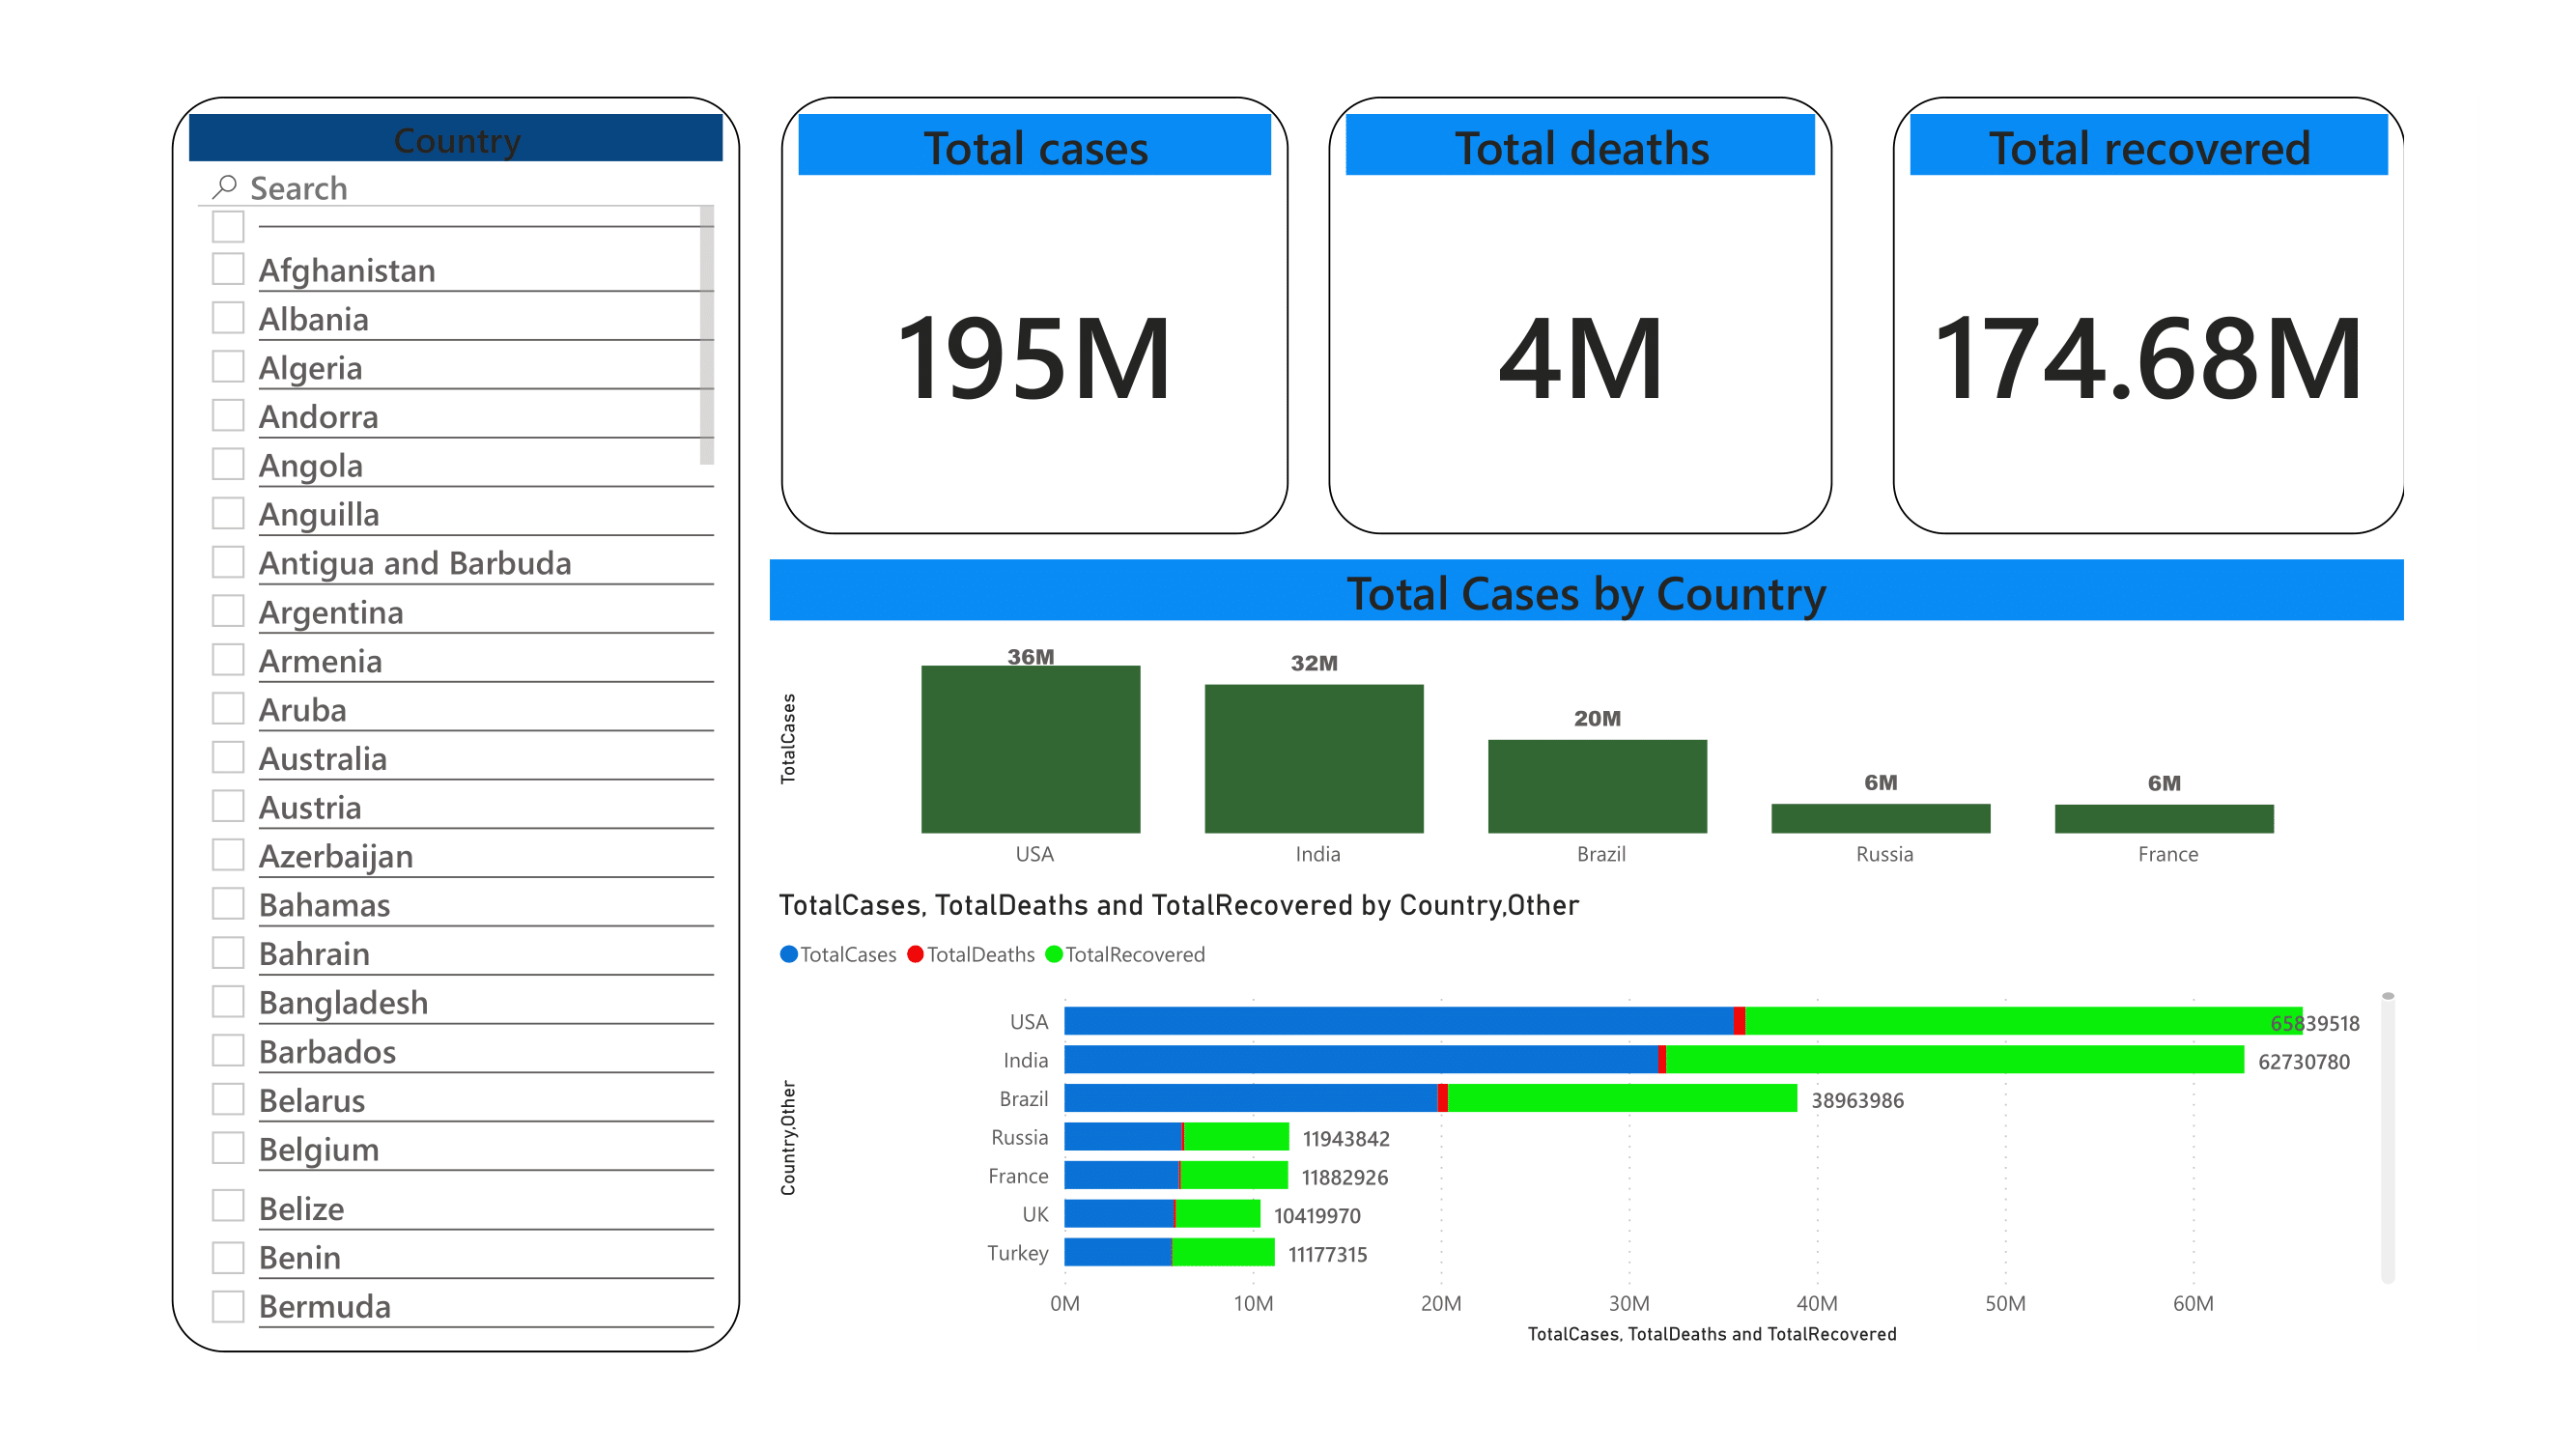

This screenshot's page, from the dashboard's own definition file:
{"tool":"powerbi","page":{"name":"Page 1","canvas":[1280,720],"ordinal":0},"visuals":[{"type":"slicer","title":"Country","fields":{"Values":["Table 1.Country,Other"]},"box":[0,0,325.7,719.5],"z":0},{"type":"card","title":"Total cases","fields":{"Values":["Sum(Table 1.TotalCases)"]},"box":[349.6,0,290.6,250.6],"z":1000},{"type":"card","title":"Total deaths","fields":{"Values":["Sum(Table 1.TotalDeaths)"]},"box":[664.1,0,289,250.6],"z":2000},{"type":"card","title":"Total recovered","fields":{"Values":["Sum(Table 1.TotalRecovered)"]},"box":[986.6,0,293.7,250.6],"z":3000},{"type":"columnChart","title":"Total Cases by Country","fields":{"Category":["Table 1.Country,Other"],"Y":["Sum(Table 1.TotalCases)"]},"box":[343.2,265,937.1,188.4],"z":4000},{"type":"barChart","fields":{"Y":["Sum(Table 1.TotalCases)","Sum(Table 1.TotalDeaths)","Sum(Table 1.TotalRecovered)"],"Category":["Table 1.Country,Other"]},"box":[343.2,453.4,937.1,266.6],"z":5000}]}

Visuals, with their boxes in screenshot pixels (x1, y1, x2, y2), scaled from the page's 1280x720 canvas onto the 2576x1449 screenshot:
"Country" slicer: 0,0,656,1448
"Total cases" card: 703,0,1288,504
"Total deaths" card: 1337,0,1918,504
"Total recovered" card: 1986,0,2575,504
"Total Cases by Country" columnChart: 691,533,2575,913
barChart - Sum(Table 1.TotalCases) x Sum(Table 1.TotalDeaths): 691,913,2575,1448
